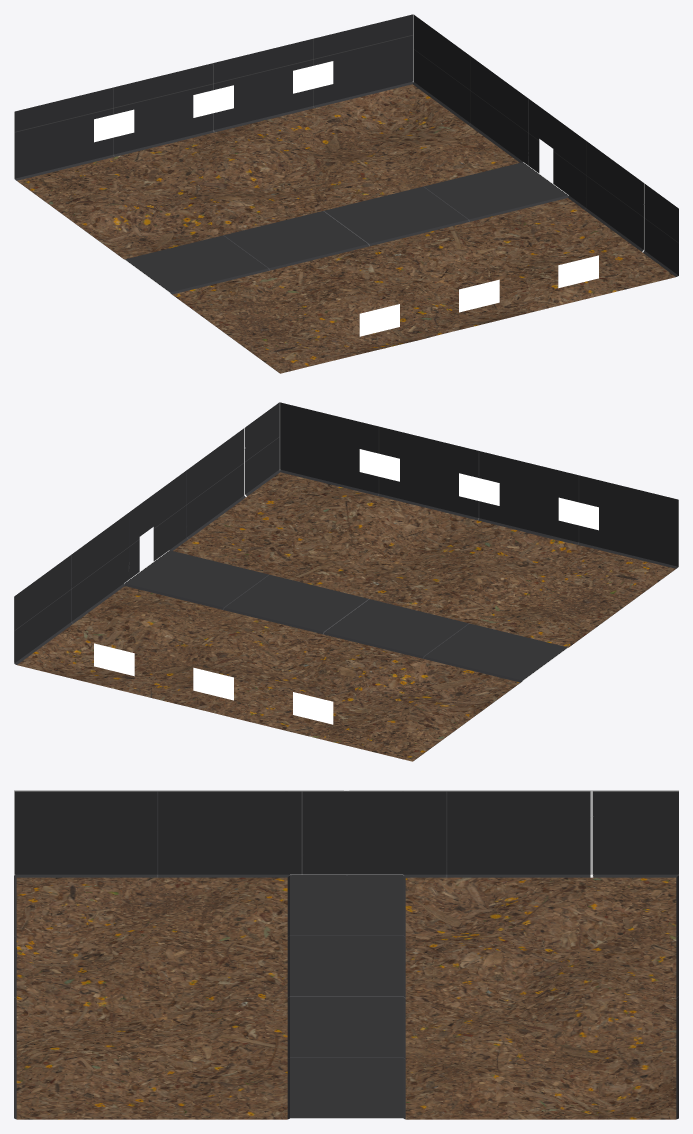
The model's file is Nivel2.glb.
3 views of the same model, one above another, from view 1: azimuth 30°, elevation 25°; view 2: azimuth 150°, elevation 25°; view 3: azimuth 270°, elevation 25° (orthographic). The views are drawn at different scales.
Parts seen in each view (by area): view 1: Cube; view 2: Cube; view 3: Cube.
Part boxes in pixels (<box>): Cube: <box>14,14,678,373</box>; Cube: <box>14,402,678,761</box>; Cube: <box>14,790,678,1119</box>.
Size of the model in its own units: 26.98 by 5.11 by 31.07.
Materials: 3 (2 with a texture image).
